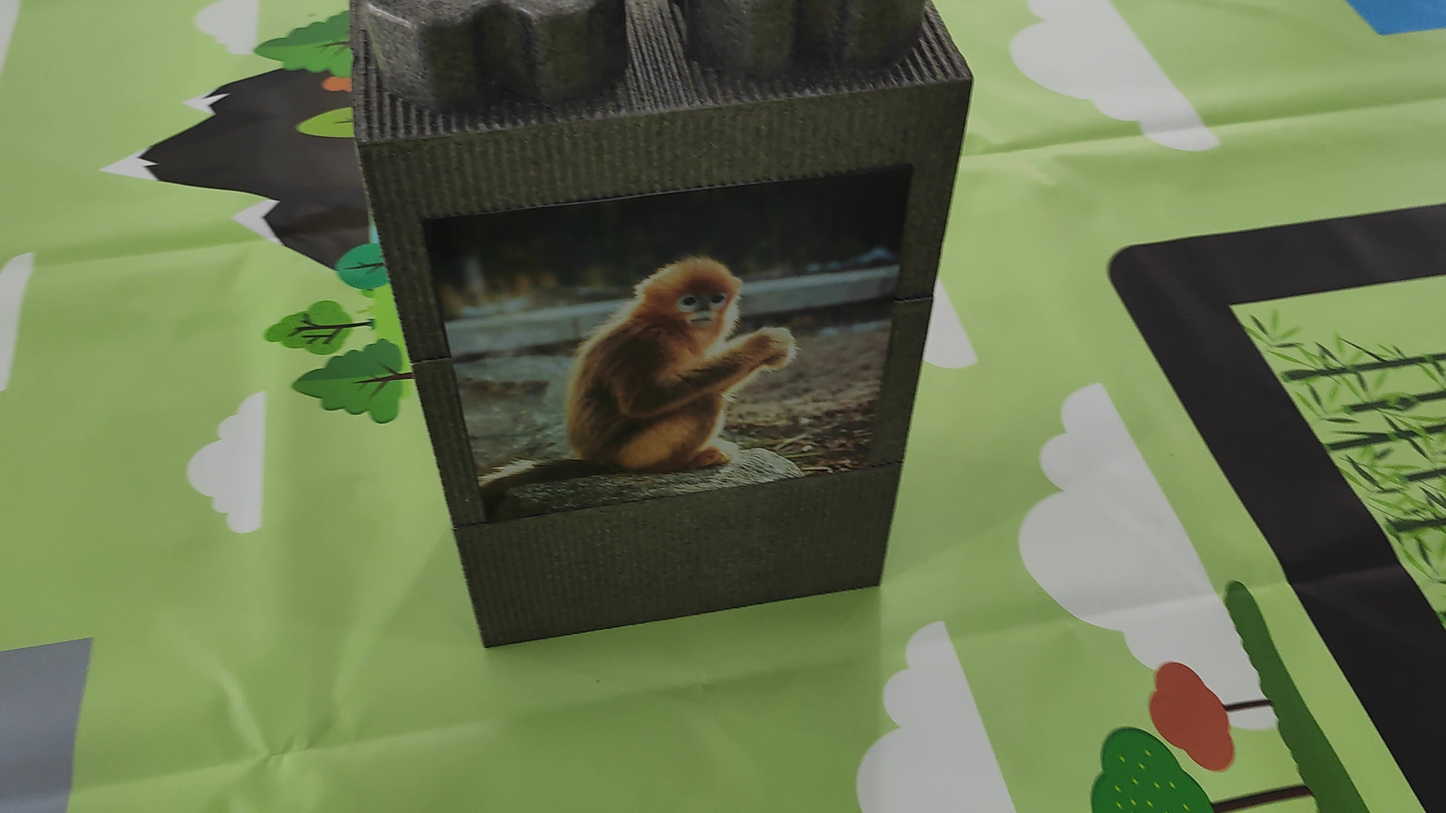monkey: (561, 236, 832, 454)
